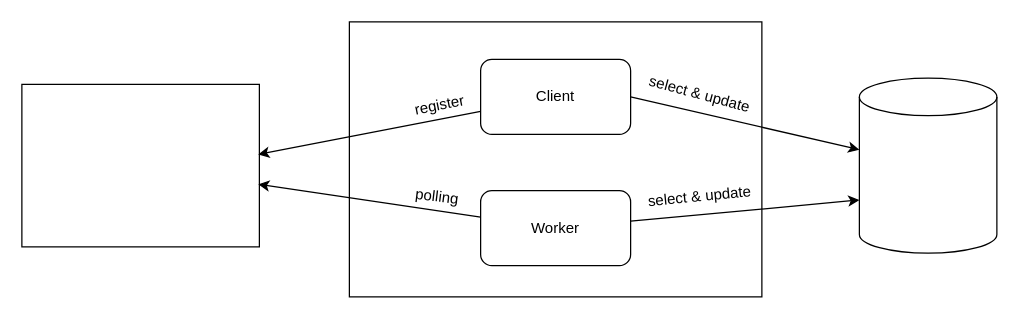
Some shapes in this 1019 by 325 pixel diagram are drawn without their labels. Each missing label, with the centre of its shape:
"MySQL" goes at point (927, 165).
"Queue" goes at point (140, 165).
